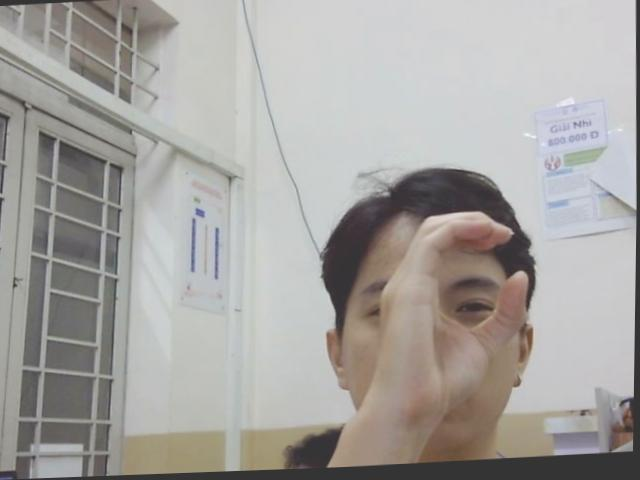C: (376, 209, 534, 423)
